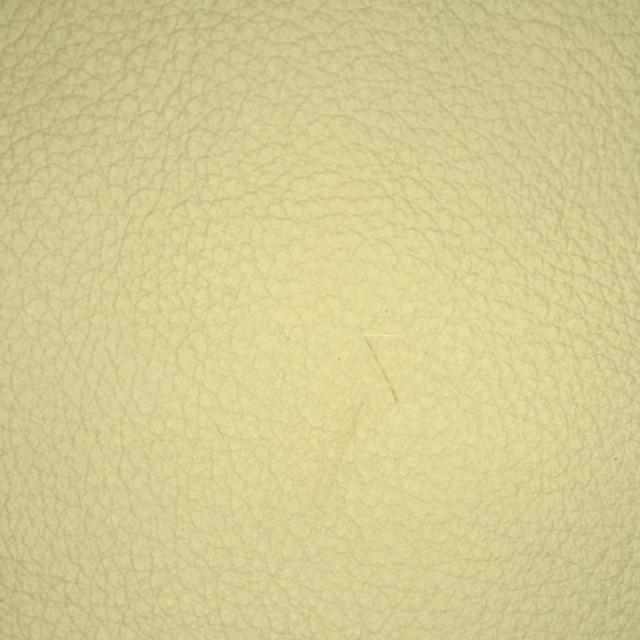Scratch: (252, 310, 488, 473)
